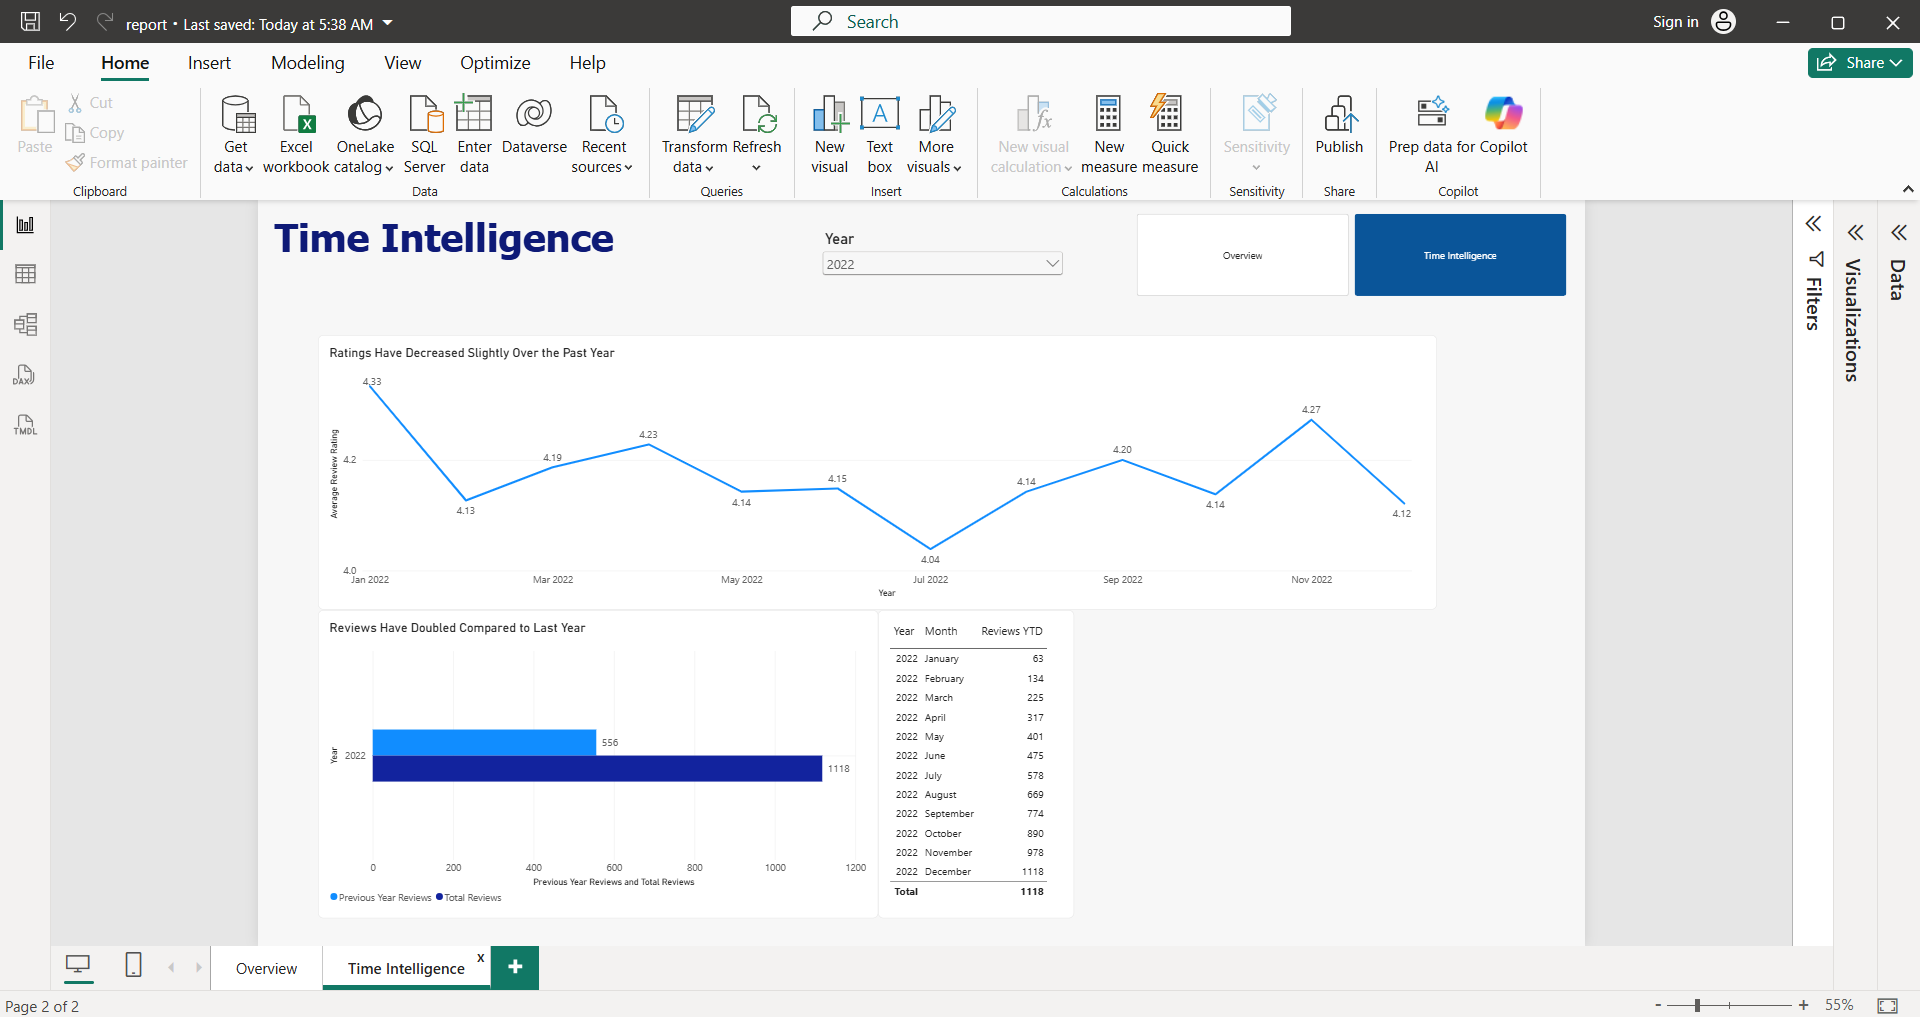

What the dashboard file says about the page in this screenshot:
{"tool":"powerbi","page":{"name":"Time Intelligence","canvas":[1920,1080],"ordinal":1},"visuals":[{"type":"pageNavigator","box":[1272,20.6,623.7,119.4],"z":0},{"type":"textbox","box":[22.6,20.6,510.5,94.7],"z":1000},{"type":"slicer","fields":{"Values":["dim_date.Year"]},"box":[813,43.2,358.1,78.2],"z":2000},{"type":"clusteredBarChart","title":"Reviews Have Doubled Compared to Last Year","fields":{"Category":["dim_date.Date.Variation.Date Hierarchy.Year","dim_date.Date.Variation.Date Hierarchy.Quarter","dim_date.Date.Variation.Date Hierarchy.Month","dim_date.Date.Variation.Date Hierarchy.Day"],"Y":["reviews.Previous Year Reviews","reviews.Total Reviews"]},"box":[86.4,592.8,811,446.7],"z":2001},{"type":"lineChart","title":"Ratings Have Decreased Slightly Over the Past Year","fields":{"Category":["dim_date.Date.Variation.Date Hierarchy.Year","dim_date.Date.Variation.Date Hierarchy.Quarter","dim_date.Date.Variation.Date Hierarchy.Month"],"Y":["reviews.Average Review Rating"]},"box":[86.4,195.5,1619.9,397.3],"z":2002},{"type":"tableEx","fields":{"Values":["dim_date.Date.Variation.Date Hierarchy.Year","dim_date.Date.Variation.Date Hierarchy.Month","reviews.Reviews YTD"]},"box":[897.4,592.8,284,446.7],"z":2003}]}

Visuals, with their boxes on the page's 1920x1080 design canvas (x1, y1, x2, y2). These are canvas units, not pixel positions in the 1920x1017 screenshot, which may show the page scaled, cropped or inside an application window:
pageNavigator: (1272, 21, 1896, 140)
textbox: (23, 21, 533, 115)
slicer - dim_date.Year: (813, 43, 1171, 121)
"Reviews Have Doubled Compared to Last Year" clusteredBarChart: (86, 593, 897, 1040)
"Ratings Have Decreased Slightly Over the Past Year" lineChart: (86, 196, 1706, 593)
tableEx - dim_date.Date.Variation.Date Hierarchy.Year x dim_date.Date.Variation.Date Hierarchy.Month: (897, 593, 1181, 1040)
